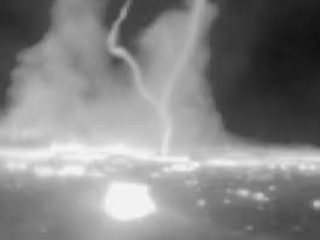fire: (91, 170, 167, 226)
smoke: (135, 12, 245, 162), (41, 10, 137, 178)
